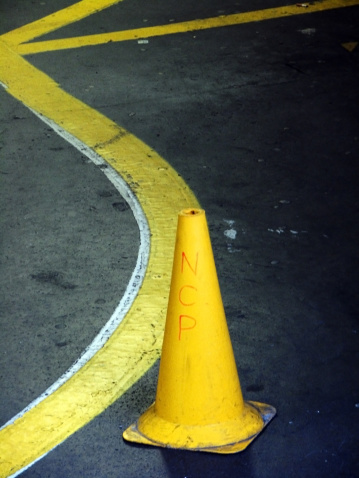trafficcone: (122, 208, 276, 456)
